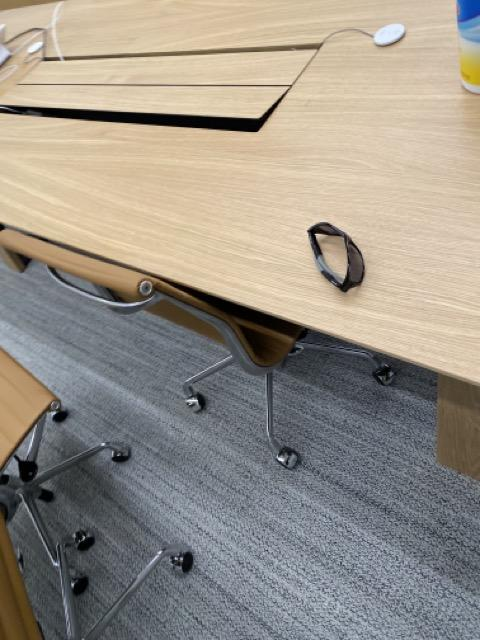Sunglasses: (307, 221, 367, 294)
